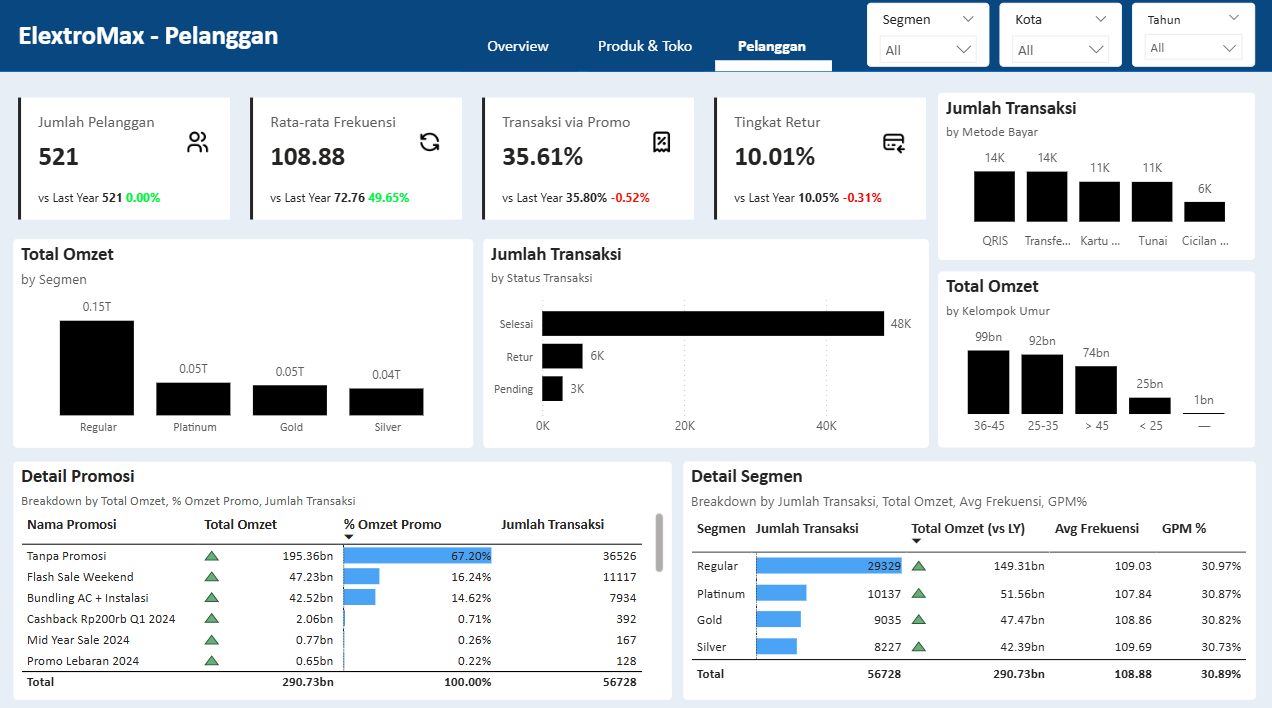

What the dashboard file says about the page in this screenshot:
{"tool":"powerbi","page":{"name":"Pelanggan","canvas":[1280,720],"ordinal":2},"visuals":[{"type":"columnChart","title":"Total Omzet","fields":{"Category":["DIM_PELANGGAN.segmen"],"Y":["_MEASURE.Total Omzet"]},"box":[15.7,240,460,208.6],"z":0},{"type":"tableEx","title":"Detail Segmen","fields":{"Values":["DIM_PELANGGAN.segmen","_MEASURE.Jumlah Transaksi","_MEASURE.Total Omzet","_MEASURE.Avg Frekuensi","_MEASURE.GPM %"]},"box":[685.7,462.9,572.9,238.6],"z":2000},{"type":"columnChart","title":"Jumlah Transaksi","fields":{"Category":["FACT_PENJUALAN.metode_bayar"],"Y":["_MEASURE.Jumlah Transaksi"]},"box":[941.4,94.3,317.1,167.1],"z":4000},{"type":"barChart","title":"Jumlah Transaksi","fields":{"Category":["FACT_PENJUALAN.status_transaksi"],"Y":["_MEASURE.Jumlah Transaksi"]},"box":[485.7,240,445.7,208.6],"z":5000},{"type":"tableEx","title":"Detail Promosi","fields":{"Values":["DIM_PROMOSI.nama_promosi","_MEASURE.Total Omzet","_MEASURE.% Omzet Promo","_MEASURE.Jumlah Transaksi"]},"box":[15.7,462.9,658.6,238.6],"z":6000},{"type":"shape","box":[0,0,1280,72.9],"z":7000},{"type":"slicer","fields":{"Values":["DIM_PELANGGAN.segmen"]},"box":[870,4.3,122.5,63.8],"z":7000,"group":"g1"},{"type":"slicer","fields":{"Values":["DIM_PELANGGAN.kota"]},"box":[1002.5,4.3,122.5,63.8],"z":8000,"group":"g1"},{"type":"textbox","box":[16.2,15,382.5,48.8],"z":8000},{"type":"slicer","fields":{"Values":["DIM_WAKTU.tahun"]},"box":[1135.5,4.3,122.9,64.3],"z":9000,"group":"g1"},{"type":"group","id":"g1","title":"Group 1","box":[870,4.3,388.6,64.3],"z":10000},{"type":"pageNavigator","box":[462.9,24.3,372.9,44.3],"z":10000,"group":"g2"},{"type":"group","id":"g2","title":"Page Navigator","box":[462.9,24.3,374.3,48.6],"z":10001},{"type":"cardVisual","fields":{"Data":["_MEASURE.Jumlah Pelanggan","_MEASURE.Avg Frekuensi","_MEASURE.% Transaksi Promo","_MEASURE.% Retur"]},"box":[15.7,94.3,918.6,132.9],"z":10002},{"type":"columnChart","title":"Total Omzet","fields":{"Category":["DIM_PELANGGAN.kelompok_umur"],"Y":["_MEASURE.Total Omzet"]},"box":[941.4,272.9,317.1,175.7],"z":10003},{"type":"pageNavigator","box":[464.3,61.4,372.9,11.4],"z":11000,"group":"g2"}]}

Visuals, with their boxes in screenshot pixels (x1, y1, x2, y2), scaled from the page's 1280x720 canvas onto the 1272x708 screenshot:
"Total Omzet" columnChart: crop(16, 236, 473, 441)
"Detail Segmen" tableEx: crop(681, 455, 1251, 690)
"Jumlah Transaksi" columnChart: crop(936, 93, 1251, 257)
"Jumlah Transaksi" barChart: crop(483, 236, 926, 441)
"Detail Promosi" tableEx: crop(16, 455, 670, 690)
shape: crop(0, 0, 1271, 72)
slicer - DIM_PELANGGAN.segmen: crop(865, 4, 986, 67)
slicer - DIM_PELANGGAN.kota: crop(996, 4, 1118, 67)
textbox: crop(16, 15, 396, 63)
slicer - DIM_WAKTU.tahun: crop(1128, 4, 1251, 67)
"Group 1" group: crop(865, 4, 1251, 67)
pageNavigator: crop(460, 24, 831, 67)
"Page Navigator" group: crop(460, 24, 832, 72)
cardVisual - _MEASURE.Jumlah Pelanggan x _MEASURE.Avg Frekuensi: crop(16, 93, 928, 223)
"Total Omzet" columnChart: crop(936, 268, 1251, 441)
pageNavigator: crop(461, 60, 832, 72)
